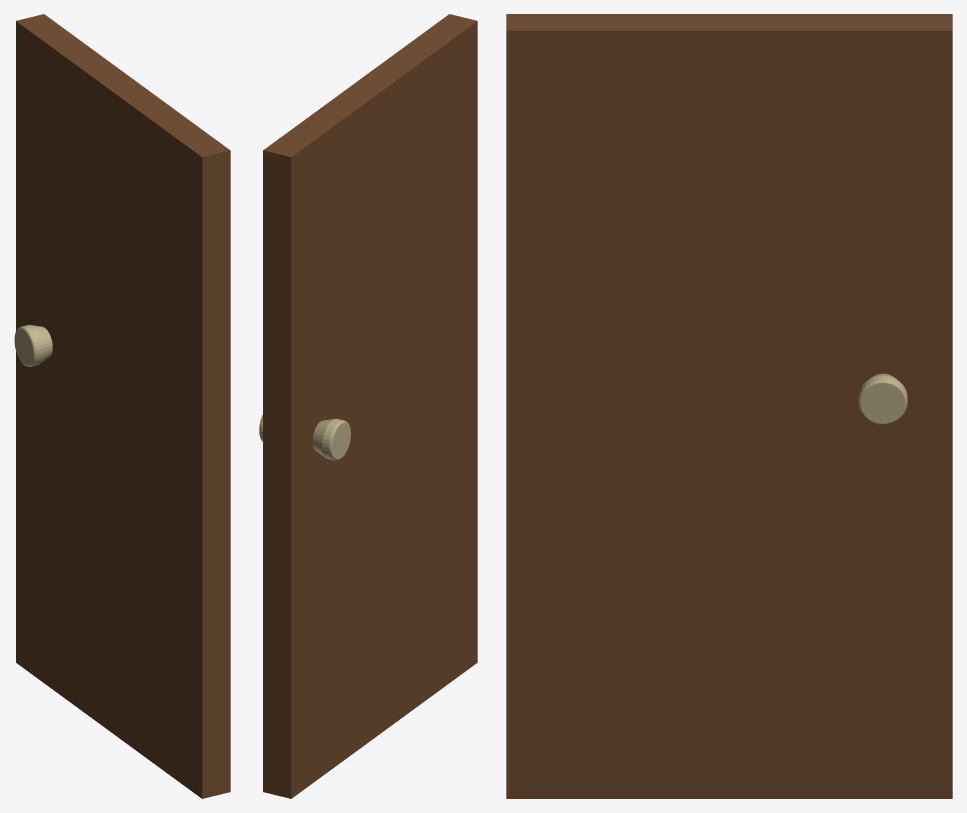
The model's file is house_door.obj.
3 views of the same model, side by side, from view 1: azimuth 30°, elevation 25°; view 2: azimuth 150°, elevation 25°; view 3: azimuth 270°, elevation 25° (orthographic). The views are drawn at different scales.
Size of the model in its own units: 0.2567 by 2.16 by 1.14.
